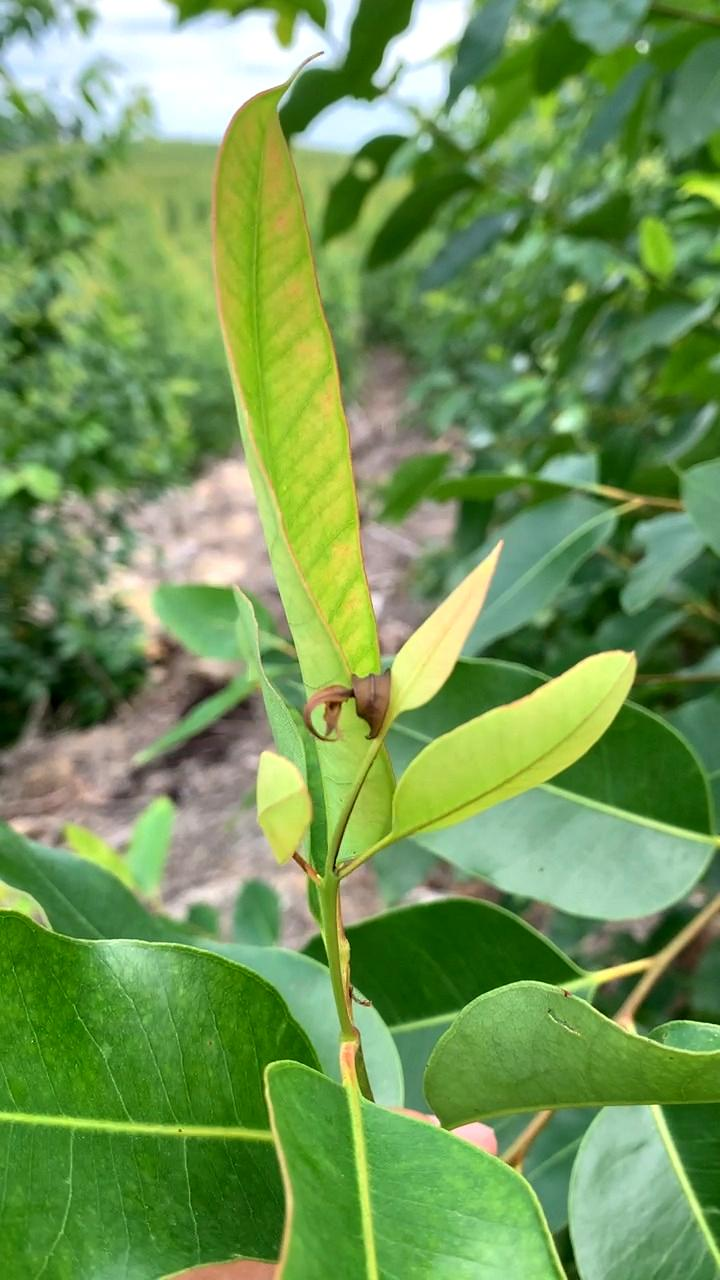Helopeltis-Withered Sprout: (303, 660, 395, 745)
